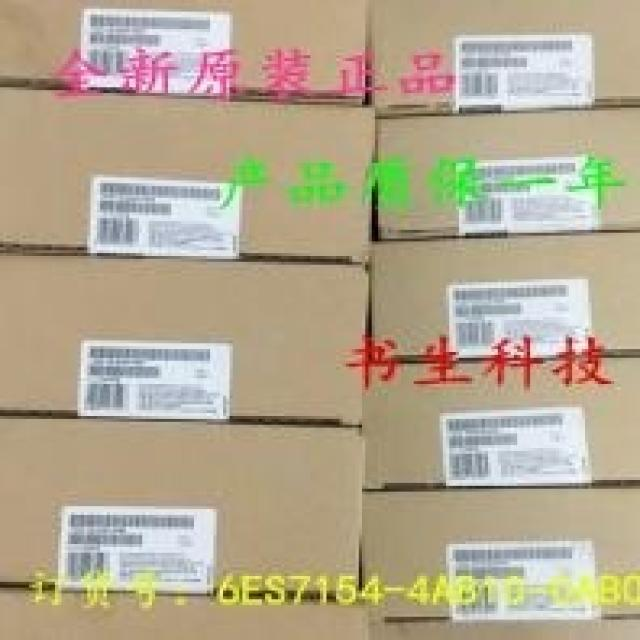box: (0, 416, 363, 597), (0, 87, 375, 262), (0, 250, 363, 424), (0, 2, 369, 106), (358, 489, 637, 620), (361, 358, 637, 488), (377, 108, 637, 240), (369, 230, 637, 356), (368, 0, 637, 117), (0, 588, 368, 637), (364, 597, 637, 637)
